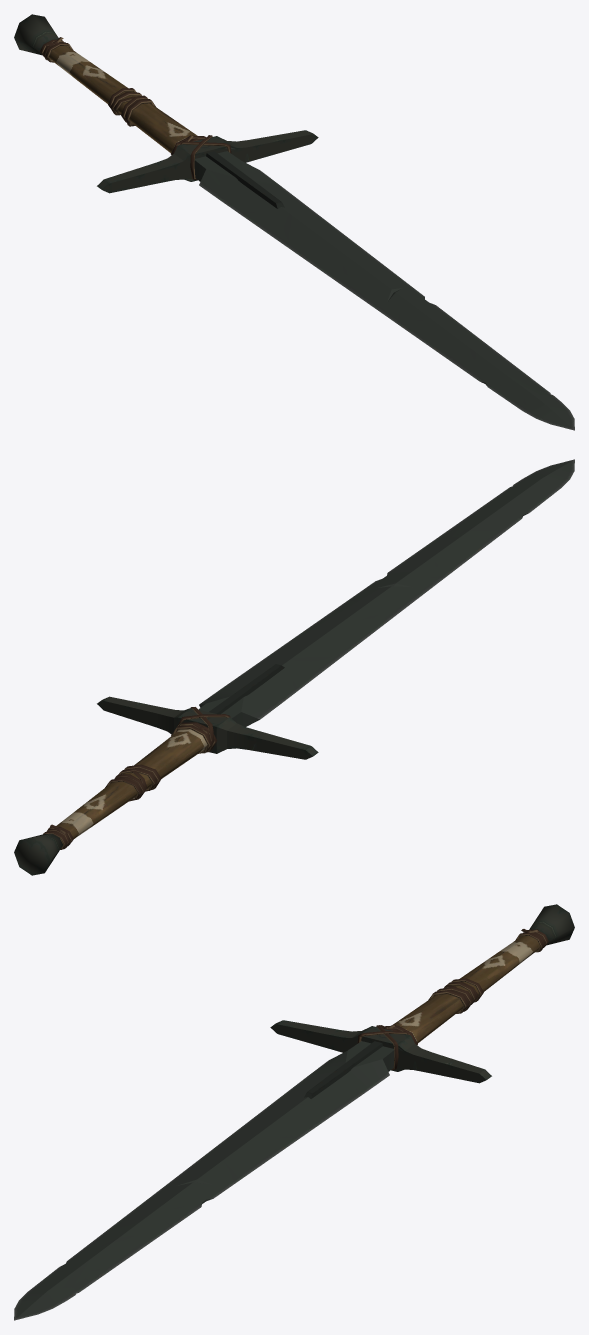
File: Weapon_Lsword_001.glb
3 renders of one model, top to bottom at view 1: azimuth 30°, elevation 25°; view 2: azimuth 150°, elevation 25°; view 3: azimuth 330°, elevation 25°, orthographic.
Visible parts, largest first — view 1: Weapon_Lsword_001; view 2: Weapon_Lsword_001; view 3: Weapon_Lsword_001.
Part boxes in pixels (box(x1,y1,x2,y2)): Weapon_Lsword_001: box(14, 14, 574, 430); Weapon_Lsword_001: box(14, 459, 574, 875); Weapon_Lsword_001: box(14, 904, 574, 1320).
Bounding box in the file's own units: 0.4656 × 0.0777 × 2.03.
Materials: 1 (1 with a texture image).
